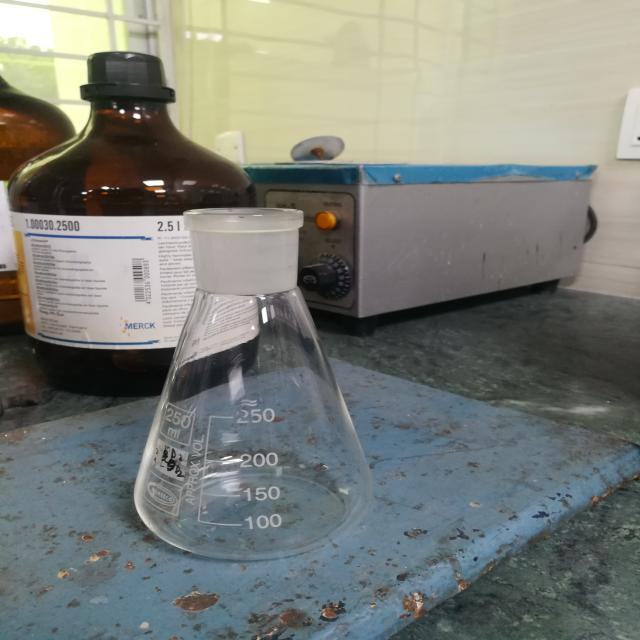Conical_Flask: (73, 163, 442, 574)
